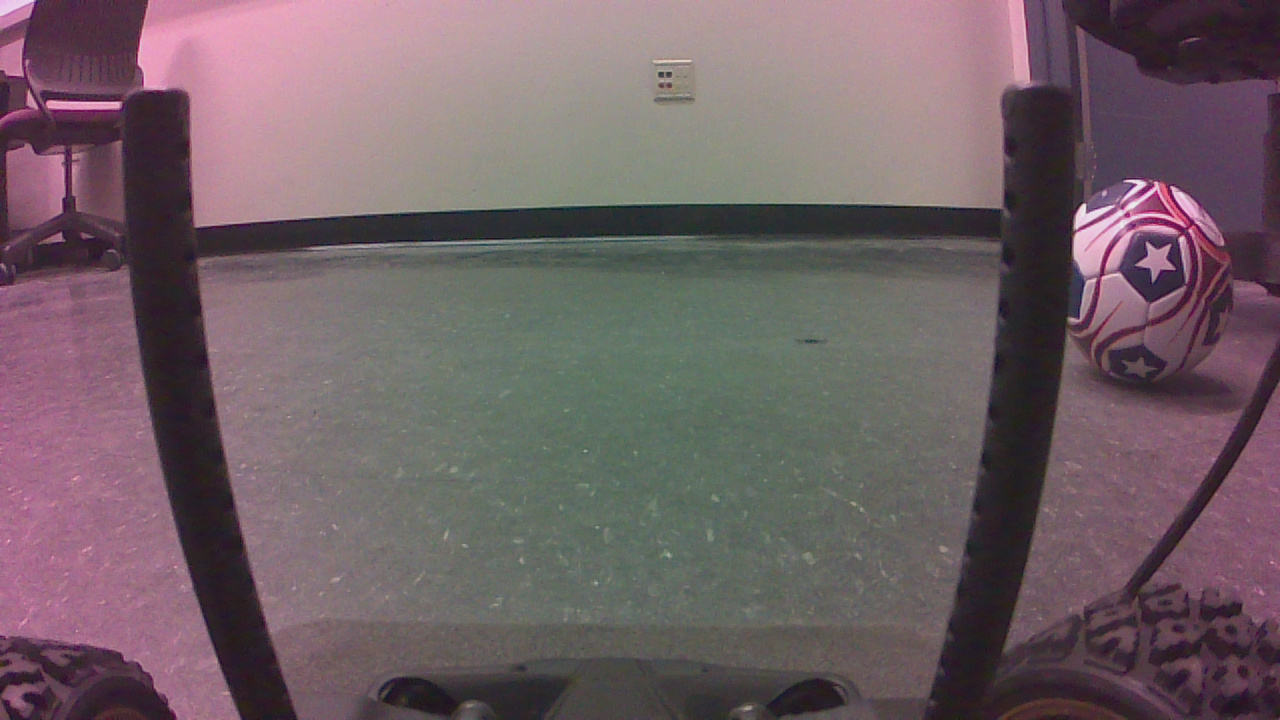ball: (1073, 183, 1219, 390)
